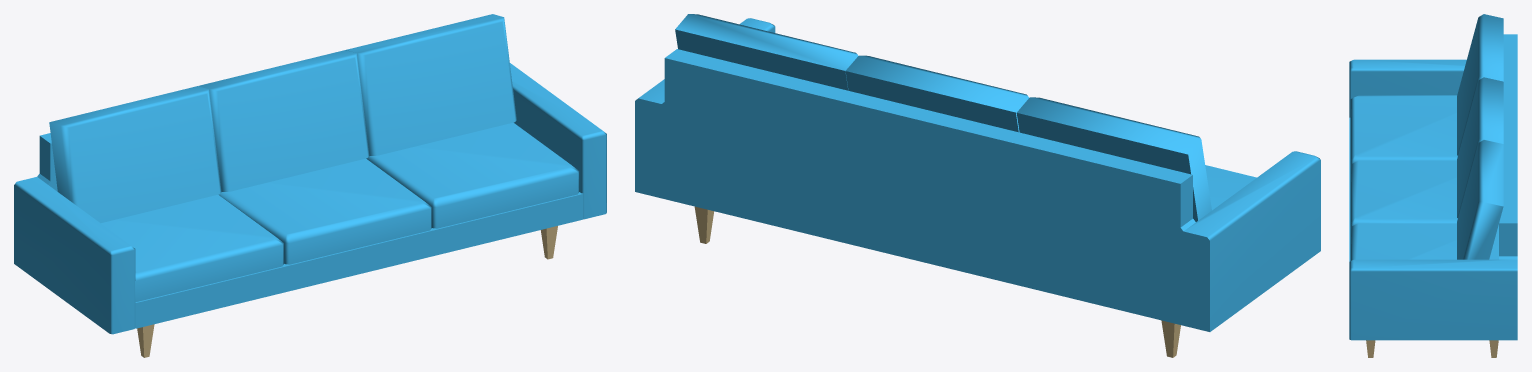
The model's file is couch (2).glb.
The picture shows the model from 3 angles, left to right: view 1: azimuth 30°, elevation 25°; view 2: azimuth 150°, elevation 25°; view 3: azimuth 270°, elevation 25°; orthographic projection. The views are drawn at different scales.
Visible parts, largest first — view 1: frame, rest_3, rest_2, rest_1, seat_2, seat_1, base, seat_3; view 2: frame, rest_3, rest_2, rest_1, seat_3; view 3: frame, seat_3, seat_2, rest_1, seat_1, rest_3, rest_2, base.
Part boxes in pixels (<box>): frame: <box>14,63,606,334</box>; rest_3: <box>49,86,221,223</box>; rest_2: <box>198,50,369,191</box>; rest_1: <box>346,14,516,155</box>; seat_2: <box>219,158,431,264</box>; seat_1: <box>366,122,579,228</box>; base: <box>135,192,583,328</box>; seat_3: <box>101,194,283,302</box>; frame: <box>635,18,1320,331</box>; rest_3: <box>1016,97,1211,221</box>; rest_2: <box>845,55,1028,132</box>; rest_1: <box>675,14,858,90</box>; seat_3: <box>1205,165,1256,210</box>; frame: <box>1349,34,1517,340</box>; seat_3: <box>1350,95,1457,164</box>; seat_2: <box>1350,160,1457,226</box>; rest_1: <box>1457,140,1503,259</box>; seat_1: <box>1350,223,1497,260</box>; rest_3: <box>1457,14,1503,155</box>; rest_2: <box>1457,77,1503,218</box>; base: <box>1349,117,1498,261</box>.
Bounding box in the file's own units: 13.24 × 4.78 × 4.47.
Materials: 1 (1 with a texture image).
